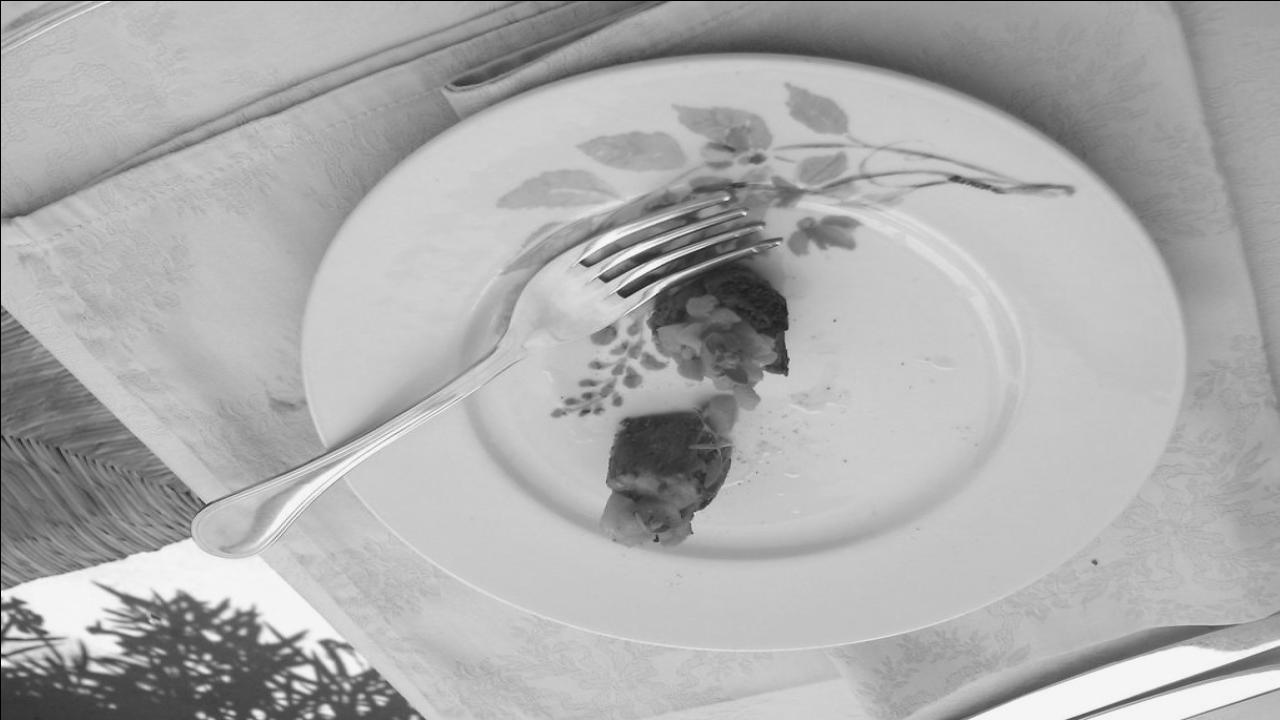fork: (184, 185, 784, 563)
